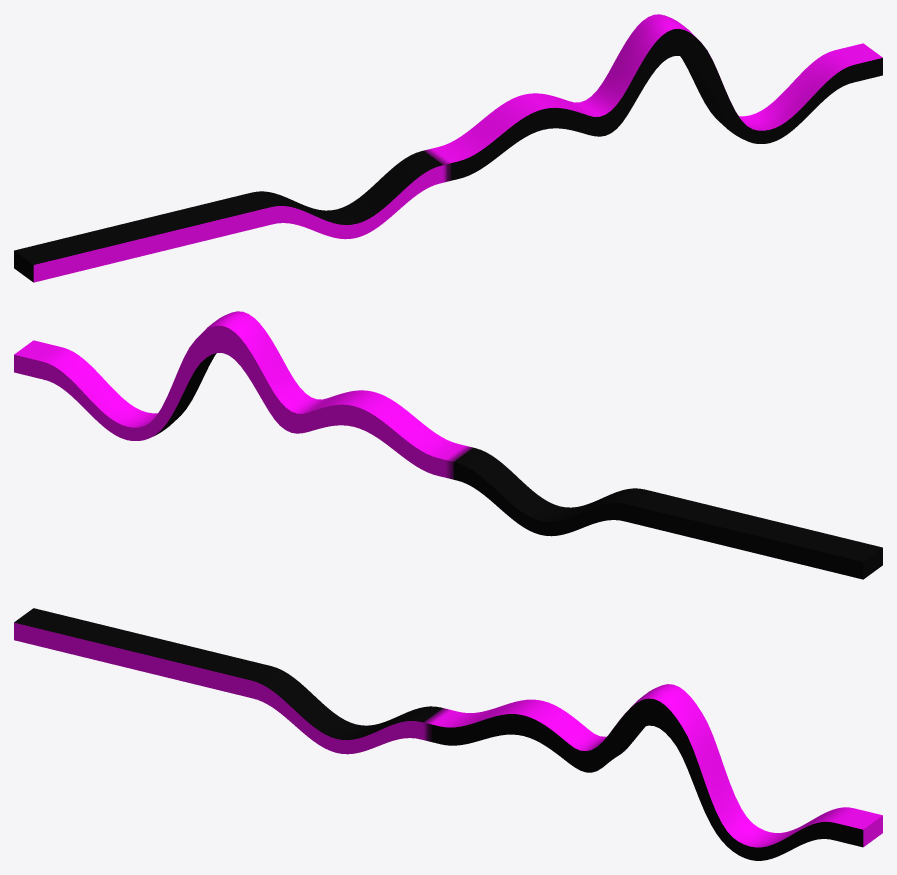
Rendered from TestStageProvisional3.fbx.
3 renders of one model, top to bottom at view 1: azimuth 30°, elevation 25°; view 2: azimuth 150°, elevation 25°; view 3: azimuth 330°, elevation 25°, orthographic.
Parts seen in each view (by area): view 1: pCube1; view 2: pCube1; view 3: pCube1.
Boxes of the visible parts, x1,y1,x2,y2 form: pCube1: [14, 14, 882, 282]; pCube1: [14, 311, 882, 579]; pCube1: [14, 608, 882, 860].
Size of the model in its own units: 50 by 7.96 by 2.
Materials: 1 (1 with a texture image).
